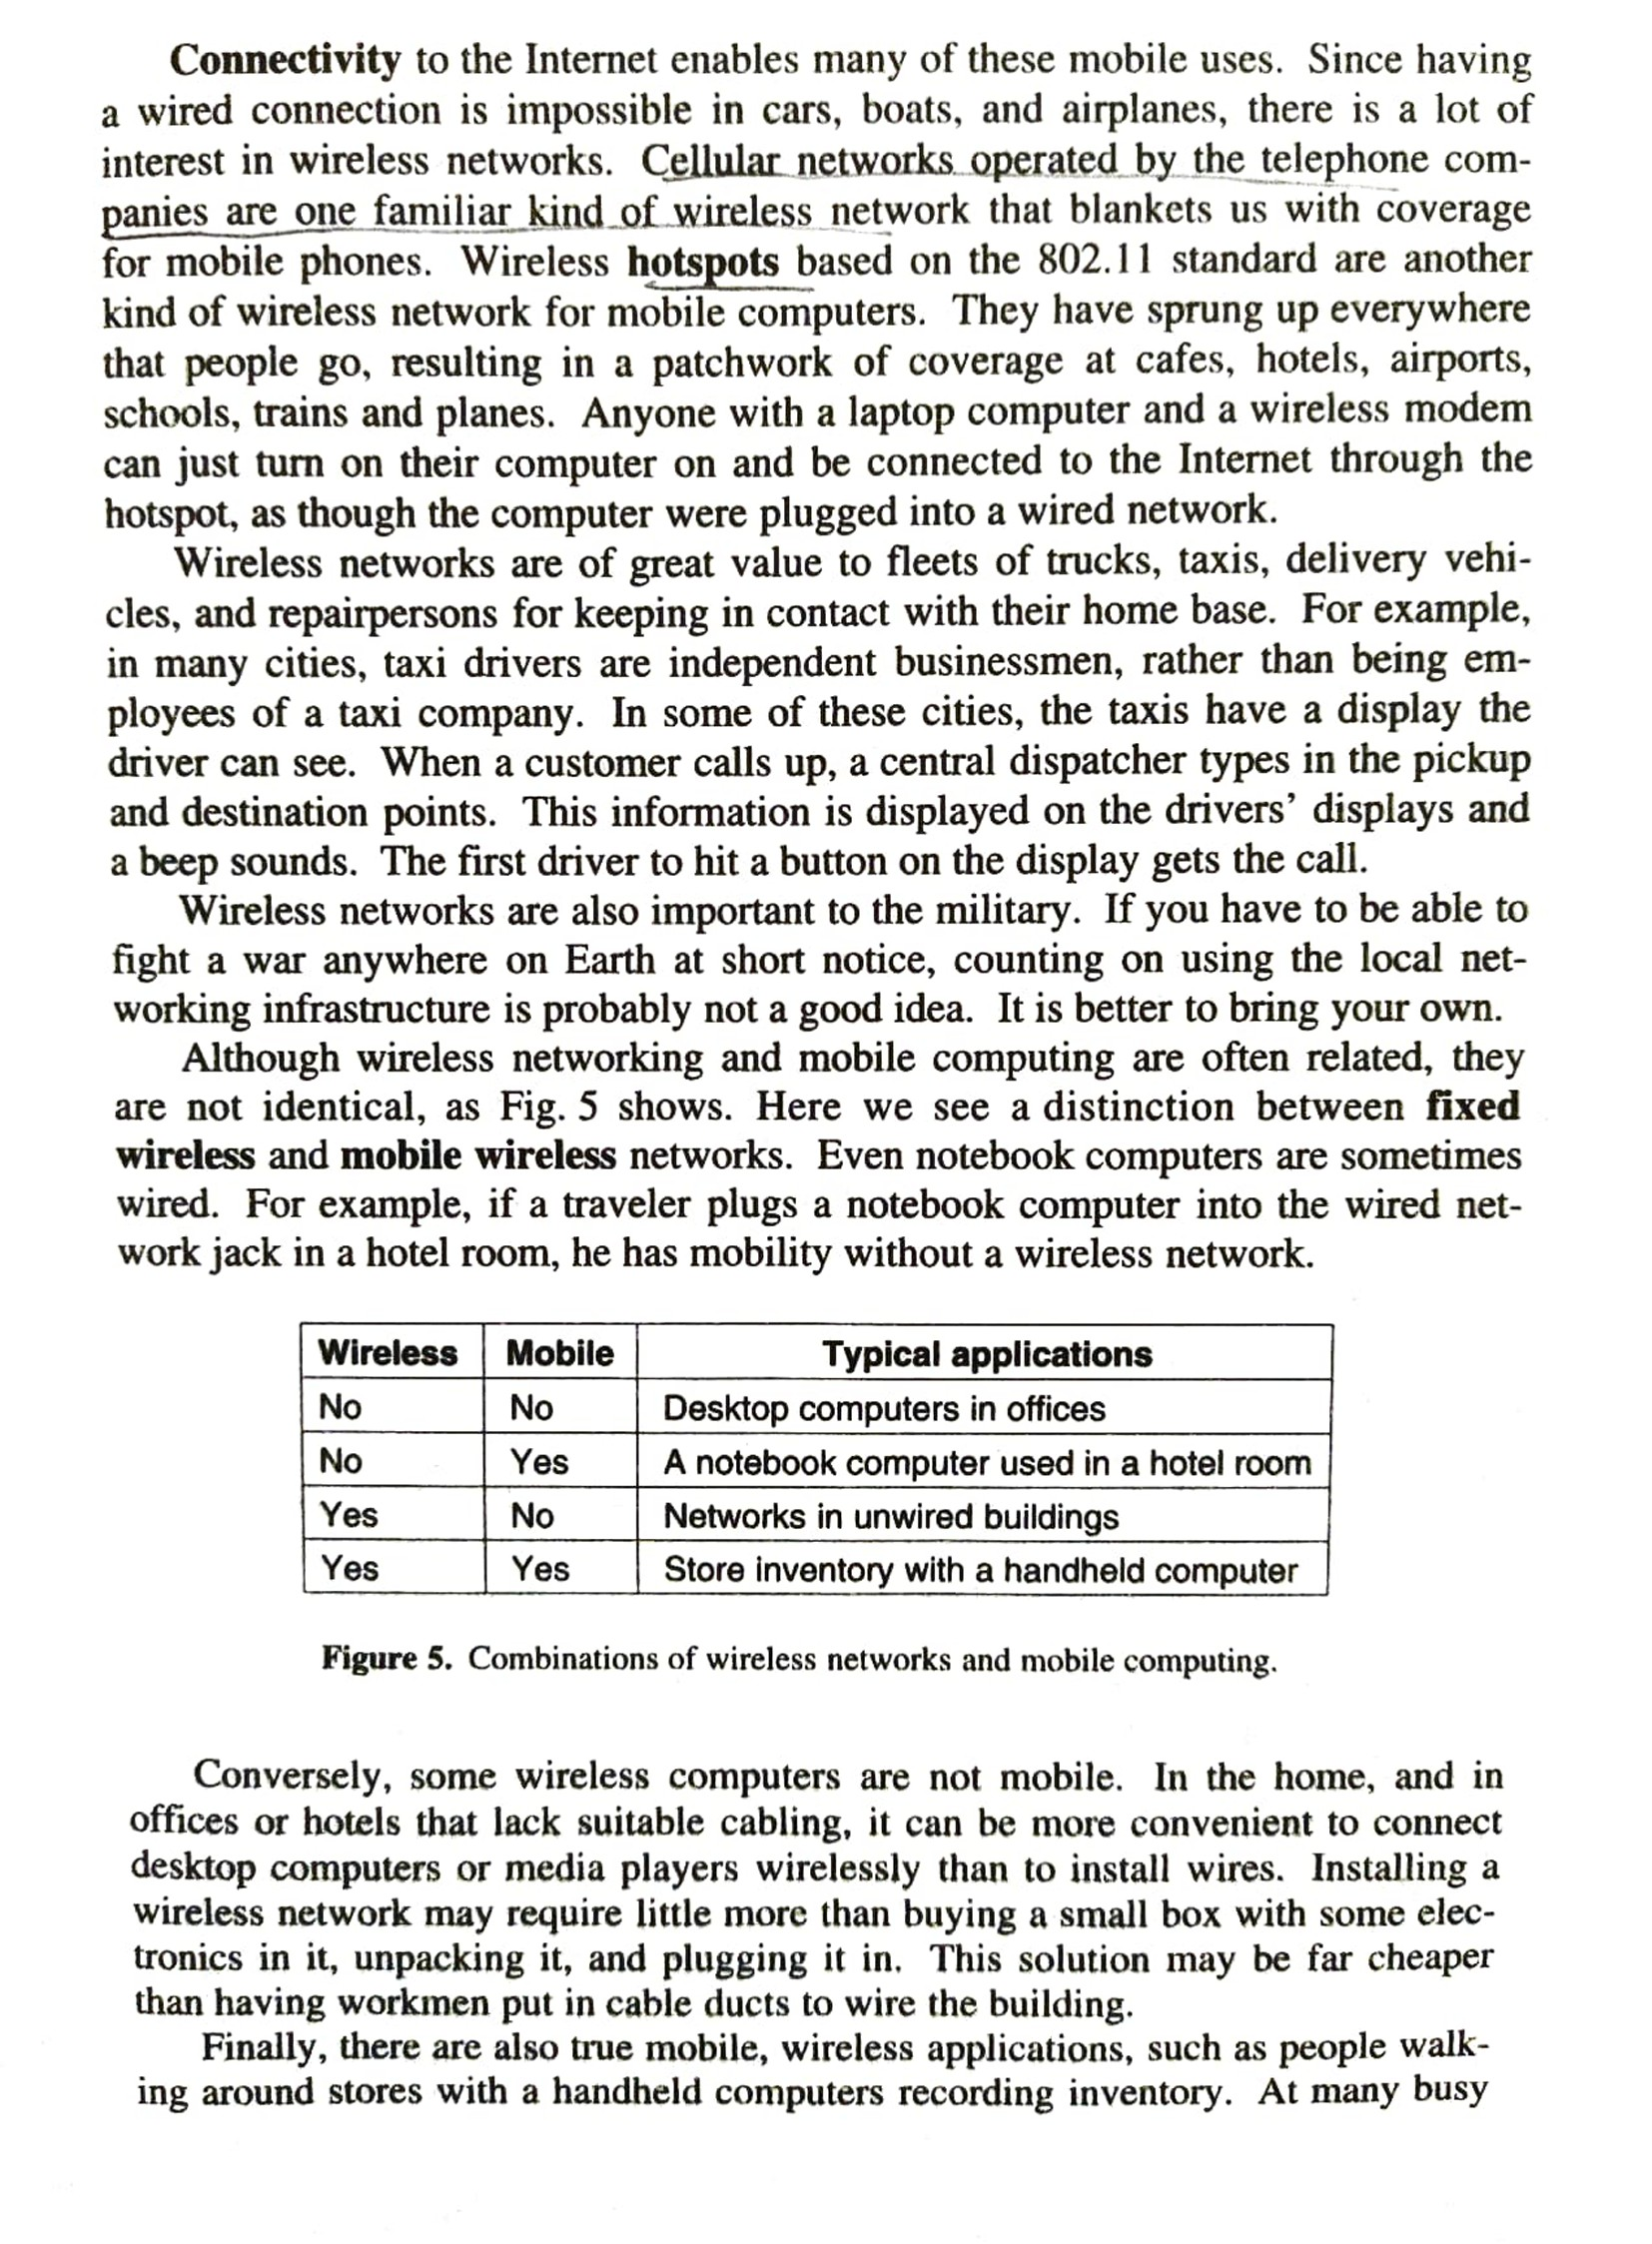BB1: (78, 26, 1554, 542)
BB2: (73, 540, 1567, 1296)
BB3: (73, 1709, 1560, 2145)
